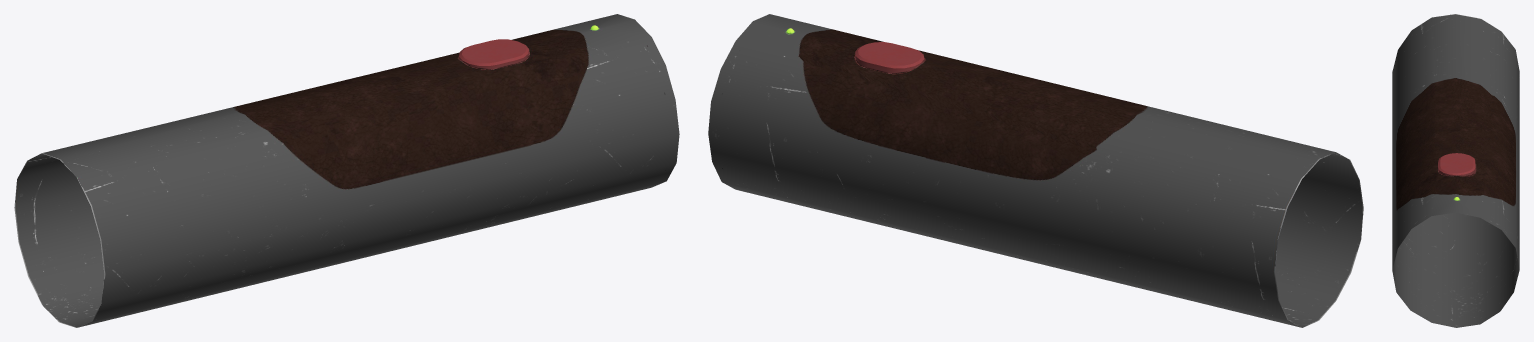
Rendered from grip_12_c_c.glb.
3 renders of one model, left to right at view 1: azimuth 30°, elevation 25°; view 2: azimuth 150°, elevation 25°; view 3: azimuth 270°, elevation 25°, orthographic. The views are drawn at different scales.
Parts seen in each view (by area): view 1: grip_12_c_c_lod0; view 2: grip_12_c_c_lod0; view 3: grip_12_c_c_lod0.
Part boxes in pixels (x1,y1,x2,y2): grip_12_c_c_lod0: [14, 14, 679, 327]; grip_12_c_c_lod0: [708, 14, 1363, 327]; grip_12_c_c_lod0: [1392, 14, 1519, 327].
Size of what is drawn, in the model's own units: 0.1058 by 0.0291 by 0.0286.
1 material, 1 textured.
